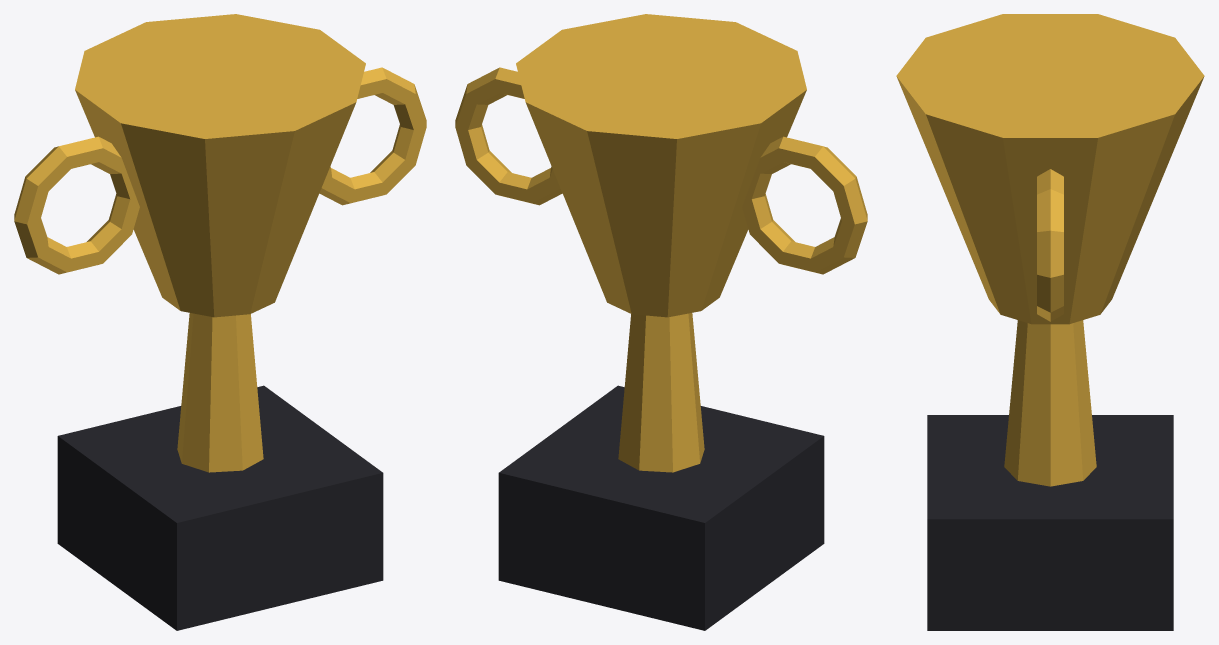
File: pawn_trophy.glb
3 views of the same model, side by side, from view 1: azimuth 30°, elevation 25°; view 2: azimuth 150°, elevation 25°; view 3: azimuth 270°, elevation 25° (orthographic). The views are drawn at different scales.
Visible parts, largest first — view 1: cup_pawn_trophy_gold, base_pawn_trophy_base, handle_pawn_trophy_gold, stem_pawn_trophy_gold; view 2: cup_pawn_trophy_gold, base_pawn_trophy_base, handle_pawn_trophy_gold, stem_pawn_trophy_gold; view 3: cup_pawn_trophy_gold, base_pawn_trophy_base, stem_pawn_trophy_gold, handle_pawn_trophy_gold.
Boxes of the visible parts, left/top/right/bottom form: cup_pawn_trophy_gold: left=75, top=14, right=365, bottom=317; base_pawn_trophy_base: left=57, top=385, right=383, bottom=630; handle_pawn_trophy_gold: left=14, top=67, right=426, bottom=274; stem_pawn_trophy_gold: left=177, top=313, right=263, bottom=472; cup_pawn_trophy_gold: left=516, top=14, right=806, bottom=317; base_pawn_trophy_base: left=498, top=385, right=824, bottom=630; handle_pawn_trophy_gold: left=455, top=67, right=867, bottom=274; stem_pawn_trophy_gold: left=618, top=313, right=704, bottom=472; cup_pawn_trophy_gold: left=896, top=14, right=1204, bottom=324; base_pawn_trophy_base: left=927, top=415, right=1173, bottom=630; stem_pawn_trophy_gold: left=1004, top=320, right=1096, bottom=486; handle_pawn_trophy_gold: left=1037, top=169, right=1063, bottom=321.
Size of the model in its own units: 0.32 by 0.36 by 0.2.
